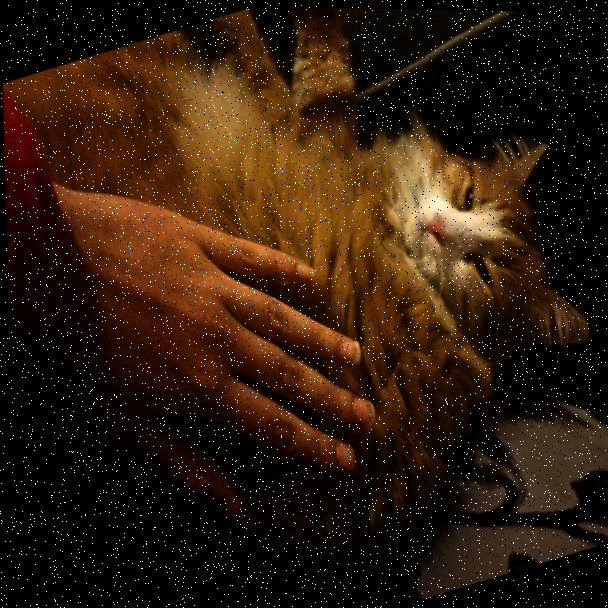five: (2, 99, 420, 571)
